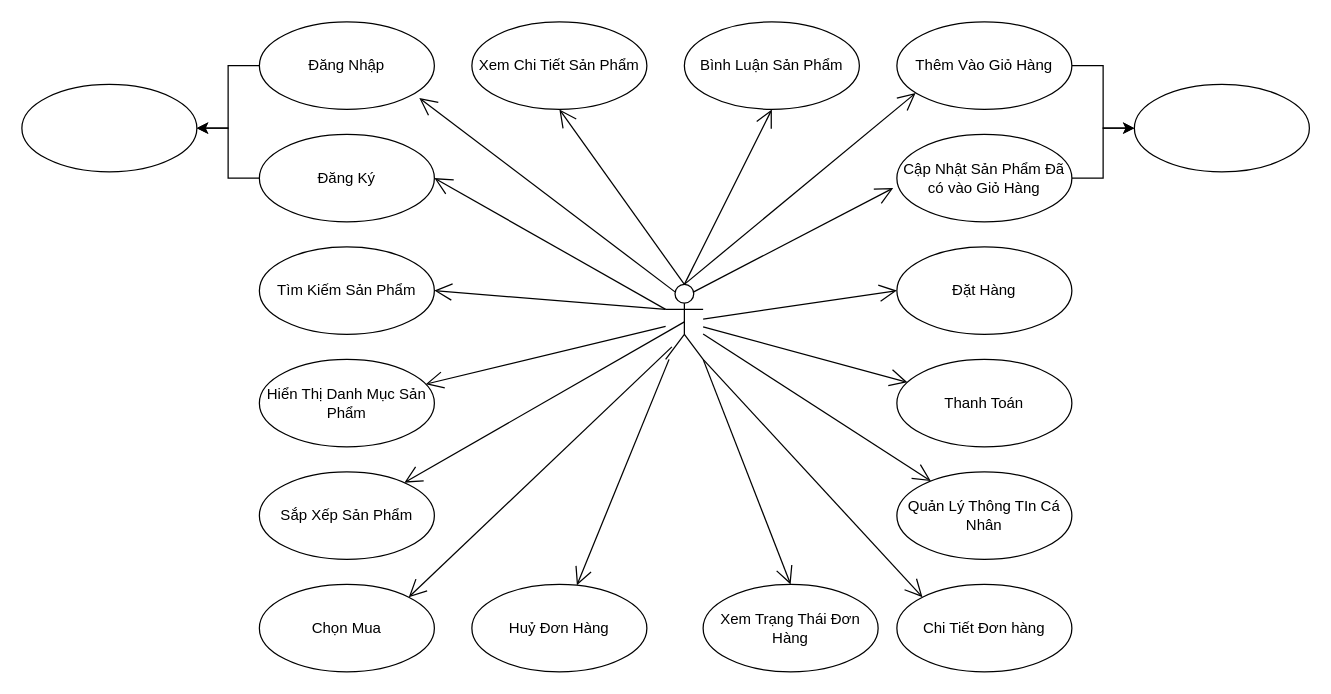
The diagram is 1331 pixels wide and 694 high, and some of its shapes have lost their labels. Here are the shapes that lost their labels. From the top down, the centre of each, then its label:
the point at 109,127: Đăng Xuất
the point at 1221,127: Xoá Sản Phẩm Khỏi Giỏ Hàng
the point at 683,321: user
